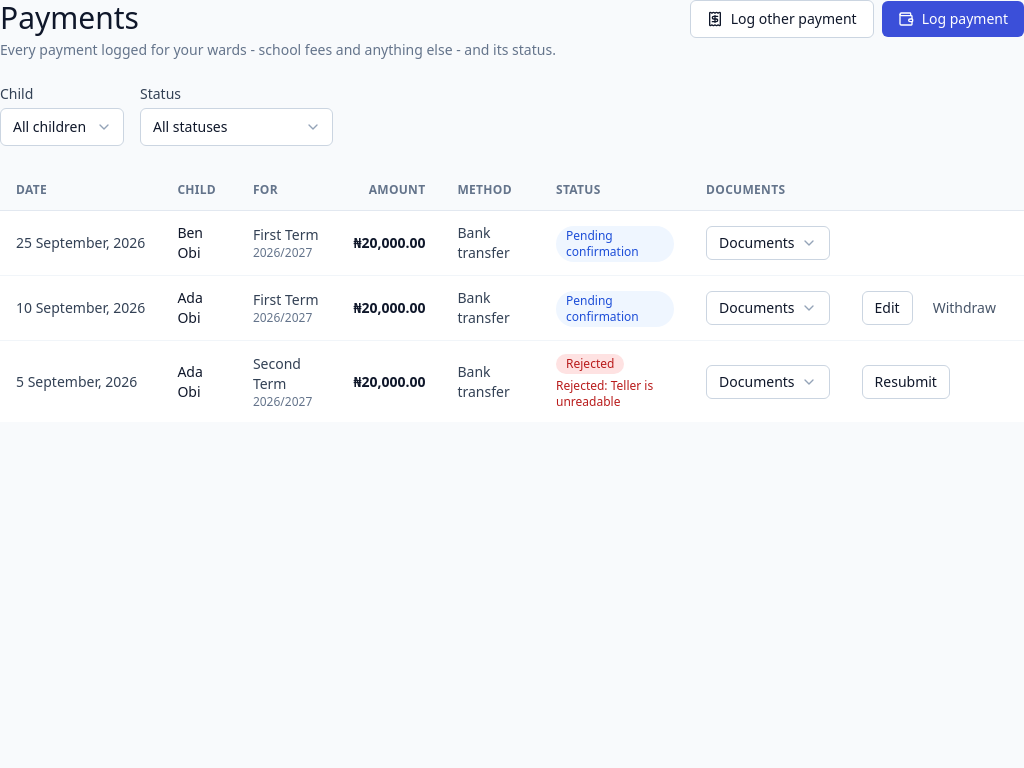
Test: WardPaymentsPage › opens the log-payment sheet from Log payment
Click the button "Log payment" at (953, 19), box left=882, top=1, right=1023, bottom=37
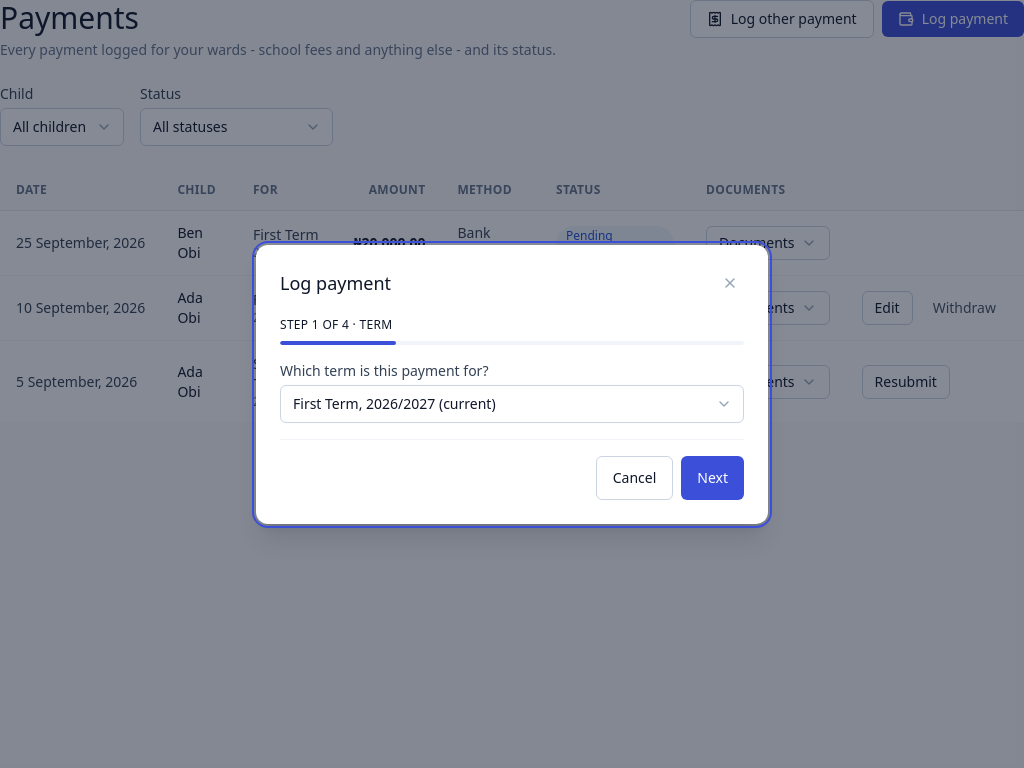
Expected: the dialog "Log payment" is shown, left=256, top=244, right=768, bottom=524
